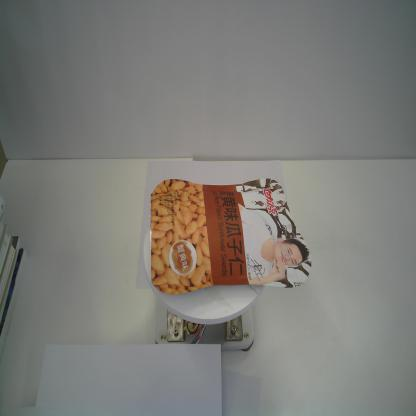Dried Fruit: (150, 177, 312, 296)
